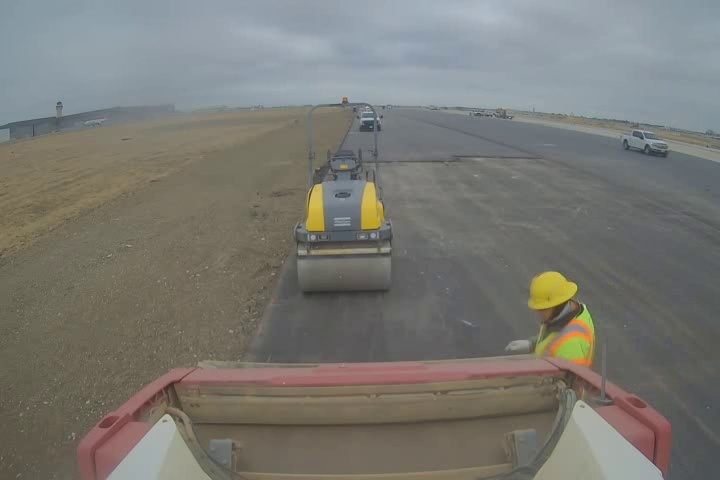person: (502, 263, 599, 384)
vehicle: (72, 351, 671, 480), (293, 102, 394, 293), (616, 124, 677, 157), (351, 108, 385, 130)
vest: (522, 299, 596, 364)
yellow_helmet: (523, 265, 581, 328)
